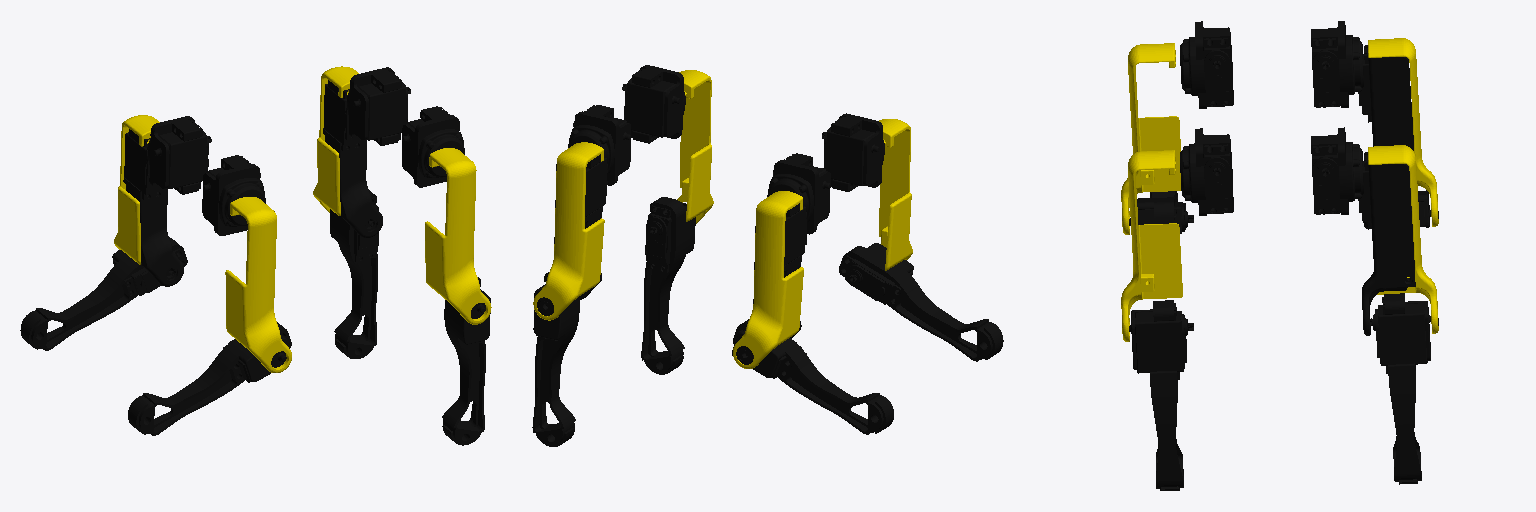
The robot description file, URDF, robot "rex":
<?xml version="1.0" encoding="utf-8"?>
<robot name="rex" xmlns:xacro="http://www.ros.org/wiki/xacro">
  <material name="yellow">
    <color rgba="0.92 0.83 0.0 1"/>
  </material>
  <material name="black">
    <color rgba="0.1 0.1 0.1 1"/>
  </material>
  <material name="grey">
    <color rgba="0.6 0.6 0.6 1"/>
  </material>
  <!-- Params -->
  <!-- Macros -->
  <!-- Robot Body -->
  <link name="base_link">
    <visual>
      <geometry>
        <mesh filename="stl/mainbody.stl" scale="0.001 0.001 0.001"/>
      </geometry>
      <material name="black"/>
      <origin rpy="0 0 3.14159" xyz="0.045 0.060 -0.015"/>
    </visual>
    <collision>
      <geometry>
        <box size="0.14 0.11 0.07"/>
      </geometry>
      <origin rpy="0 0 0" xyz="0 0 0"/>
    </collision>
    <inertial>
      <mass value="1.20"/>
      <inertia ixx="100" ixy="0" ixz="0" iyy="100" iyz="0" izz="100"/>
    </inertial>
  </link>

<!--  @TODO add lidar sensor-->
  <!-- Lidar Backpack -->
<!--  <link name="lidar_link">-->
<!--    <visual>-->
<!--      <geometry>-->
<!--        <mesh filename="stl/rplidar_main.STL" scale="0.001 0.001 0.001"/>-->
<!--      </geometry>-->
<!--      <material name="black"/>-->
<!--      <origin rpy="1.57075 0 0" xyz="-0.06425 0.02885 0"/>-->
<!--    </visual>-->
<!--    <collision>-->
<!--      <geometry>-->
<!--        <box size="0.0985 0.0577 0.07"/>-->
<!--      </geometry>-->
<!--      <origin rpy="0 0 0" xyz="0 0 0"/>-->
<!--    </collision>-->
<!--    <inertial>-->
<!--      <mass value="0.50"/>-->
<!--      <inertia ixx="100" ixy="0" ixz="0" iyy="100" iyz="0" izz="100"/>-->
<!--    </inertial>-->
<!--  </link>-->
<!--  <joint name="base_lidar" type="fixed">-->
<!--    <parent link="base_link"/>-->
<!--    <child link="lidar_link"/>-->
<!--    <origin xyz="0 0 0.035"/>-->
<!--  </joint>-->

  <!-- create head & tail -->
  <link name="chassis_front_link">
    <visual>
      <geometry>
        <mesh filename="stl/frontpart.stl" scale="0.001 0.001 0.001"/>
      </geometry>
      <origin rpy="0 0 3.14159" xyz="0.040 0.060 -0.0140"/>
      <material name="yellow"/>
    </visual>
    <collision>
      <geometry>
        <box size="0.058 0.11 0.07"/>
      </geometry>
      <origin rpy="0 0 0" xyz="-0.145 0 0"/>
    </collision>
    <inertial>
      <mass value="0.05"/>
      <inertia ixx="100" ixy="0" ixz="0" iyy="100" iyz="0" izz="100"/>
    </inertial>
  </link>
  <joint name="chassis_base_front" type="fixed">
    <parent link="base_link"/>
    <child link="chassis_front_link"/>
  </joint>
  <link name="chassis_rear_link">
    <visual>
      <geometry>
        <mesh filename="stl/backpart.stl" scale="0.001 0.001 0.001"/>
      </geometry>
      <origin rpy="0 0 3.14159" xyz="0.040 0.060 -0.0140"/>
      <material name="yellow"/>
    </visual>
    <collision>
      <geometry>
        <box size="0.04 0.11 0.07"/>
      </geometry>
      <origin rpy="0 0 0" xyz="0.135 0 0"/>
    </collision>
    <inertial>
      <mass value="0.05"/>
      <inertia ixx="100" ixy="0" ixz="0" iyy="100" iyz="0" izz="100"/>
    </inertial>
  </link>
  <joint name="chassis_base_rear" type="fixed">
    <parent link="base_link"/>
    <child link="chassis_rear_link"/>
  </joint>

  <!-- create Legs -->
  <link name="front_left_shoulder_link">
    <visual>
      <geometry>
        <mesh filename="stl/lshoulder.stl" scale="0.001 0.001 0.001"/>
      </geometry>
      <origin rpy="0 0 0" xyz="-0.135 -0.02 -0.01"/>
      <material name="black"/>
    </visual>
    <collision>
      <geometry>
        <box size="0.044 0.038 0.07"/>
      </geometry>
      <origin rpy="0 0 0" xyz="0 0 0"/>
    </collision>
    <inertial>
      <mass value="0.10"/>
      <inertia ixx="100" ixy="0" ixz="0" iyy="100" iyz="0" izz="100"/>
    </inertial>
  </link>
  <link name="front_left_leg_link_cover">
    <visual>
      <geometry>
        <mesh filename="stl/larm_cover.stl" scale="0.001 0.001 0.001"/>
      </geometry>
      <origin rpy="0 0 0" xyz="-0.125 0.04 -0.02"/>
      <material name="yellow"/>
    </visual>
    <inertial>
      <mass value="0.5"/>
      <inertia ixx="100" ixy="0" ixz="0" iyy="100" iyz="0" izz="100"/>
    </inertial>
  </link>
  <link name="front_left_leg_link">
    <visual>
      <geometry>
        <mesh filename="stl/larm.stl" scale="0.001 0.001 0.001"/>
      </geometry>
      <origin rpy="0 0 0" xyz="-0.125 0.04 -0.02"/>
      <material name="black"/>
    </visual>
    <collision>
      <origin rpy="0.0 0.0 0.0" xyz="0.0 0.0 -0.050"/>
      <geometry>
        <box size="0.028 0.036 0.12"/>
      </geometry>
    </collision>
    <inertial>
      <mass value="0.1"/>
      <inertia ixx="100" ixy="0" ixz="0" iyy="100" iyz="0" izz="100"/>
    </inertial>
  </link>
  <link name="front_left_foot_link">
    <visual>
      <geometry>
        <mesh filename="stl/lfoot.stl" scale="0.001 0.001 0.001"/>
      </geometry>
      <origin rpy="0 0 0" xyz="-0.120 0.04 0.1"/>
      <material name="black"/>
    </visual>
    <collision>
      <geometry>
        <box size="0.026 0.020 0.115"/>
      </geometry>
      <origin rpy="0.0 0.0 0.0" xyz="0.0 0.0 -0.050"/>
    </collision>
    <inertial>
      <mass value="0.1"/>
      <inertia ixx="100" ixy="0" ixz="0" iyy="100" iyz="0" izz="100"/>
    </inertial>
  </link>
  <link name="front_left_toe_link">
    <visual>
      <geometry>
        <mesh filename="stl/foot.stl" scale="0.001 0.001 0.001"/>
      </geometry>
      <origin rpy="0 -0.40010 0" xyz="0 -0.01 0"/>
      <material name="grey"/>
    </visual>
    <collision>
      <geometry>
        <mesh filename="stl/foot.stl" scale="0.001 0.001 0.001"/>
      </geometry>
      <origin rpy="0 -0.40010 0" xyz="0 -0.01 0"/>
      <contact_coefficients mu="100.0"/>
    </collision>
    <inertial>
      <mass value="0.005"/>
      <inertia ixx="100" ixy="0" ixz="0" iyy="100" iyz="0" izz="100"/>
    </inertial>
  </link>
  <joint name="motor_front_left_shoulder" type="revolute">
    <parent link="base_link"/>
    <child link="front_left_shoulder_link"/>
    <axis xyz="1 0 0"/>
    <origin rpy="0 0 3.14159" xyz="0.093 0.036 0"/>
    <limit effort="100.0" lower="-0.05" upper="-0.051" velocity="5"/>
    <dynamics damping="0.0" friction="0.5"/>
  </joint>
  <joint name="motor_front_left_leg" type="revolute">
    <parent link="front_left_shoulder_link"/>
    <child link="front_left_leg_link"/>
    <axis xyz="0 1 0"/>
    <origin rpy="0 0 0" xyz="0 -0.052 0"/>
    <limit effort="100.0" lower="-9.17" upper="9.17" velocity="5"/>
    <dynamics damping="0.0" friction="0.0"/>
  </joint>
  <joint name="front_left_leg_cover_joint" type="fixed">
    <parent link="front_left_leg_link"/>
    <child link="front_left_leg_link_cover"/>
    <origin xyz="0 0 0"/>
  </joint>
  <joint name="foot_motor_front_left" type="revolute">
    <parent link="front_left_leg_link"/>
    <child link="front_left_foot_link"/>
    <axis xyz="0 1 0"/>
    <origin rpy="0 0 0" xyz="-0.01 0 -0.12"/>
    <limit effort="100.0" lower="-9.17" upper="9.17" velocity="5"/>
    <dynamics damping="0.0" friction="0.5"/>
  </joint>
  <joint name="front_left_toe" type="fixed">
    <parent link="front_left_foot_link"/>
    <child link="front_left_toe_link"/>
    <origin xyz="0 0 -0.115"/>
  </joint>

  <link name="front_right_shoulder_link">
    <visual>
      <geometry>
        <mesh filename="stl/rshoulder.stl" scale="0.001 0.001 0.001"/>
      </geometry>
      <origin rpy="0 0 0" xyz="-0.135 -0.09 -0.01"/>
      <material name="black"/>
    </visual>
    <collision>
      <geometry>
        <box size="0.044 0.038 0.07"/>
      </geometry>
      <origin rpy="0 0 0" xyz="0 0 0"/>
    </collision>
    <inertial>
      <mass value="0.10"/>
      <inertia ixx="100" ixy="0" ixz="0" iyy="100" iyz="0" izz="100"/>
    </inertial>
  </link>
  <link name="front_right_leg_link_cover">
    <visual>
      <geometry>
        <mesh filename="stl/rarm_cover.stl" scale="0.001 0.001 0.001"/>
      </geometry>
      <origin rpy="0 0 0" xyz="-0.125 -0.15 -0.02"/>
      <material name="yellow"/>
    </visual>
    <inertial>
      <mass value="0.5"/>
      <inertia ixx="100" ixy="0" ixz="0" iyy="100" iyz="0" izz="100"/>
    </inertial>
  </link>
  <link name="front_right_leg_link">
    <visual>
      <geometry>
        <mesh filename="stl/rarm.stl" scale="0.001 0.001 0.001"/>
      </geometry>
      <origin rpy="0 0 0" xyz="-0.125 -0.15 -0.02"/>
      <material name="black"/>
    </visual>
    <collision>
      <origin rpy="0.0 0.0 0.0" xyz="0.0 0.0 -0.050"/>
      <geometry>
        <box size="0.028 0.036 0.12"/>
      </geometry>
    </collision>
    <inertial>
      <mass value="0.1"/>
      <inertia ixx="100" ixy="0" ixz="0" iyy="100" iyz="0" izz="100"/>
    </inertial>
  </link>
  <link name="front_right_foot_link">
    <visual>
      <geometry>
        <mesh filename="stl/rfoot.stl" scale="0.001 0.001 0.001"/>
      </geometry>
      <origin rpy="0 0 0" xyz="-0.120 -0.15 0.1"/>
      <material name="black"/>
    </visual>
    <collision>
      <geometry>
        <box size="0.026 0.020 0.115"/>
      </geometry>
      <origin rpy="0.0 0.0 0.0" xyz="0.0 0.0 -0.050"/>
    </collision>
    <inertial>
      <mass value="0.1"/>
      <inertia ixx="100" ixy="0" ixz="0" iyy="100" iyz="0" izz="100"/>
    </inertial>
  </link>
  <link name="front_right_toe_link">
    <visual>
      <geometry>
        <mesh filename="stl/foot.stl" scale="0.001 0.001 0.001"/>
      </geometry>
      <origin rpy="0 -0.40010 0" xyz="0 -0.01 0"/>
      <material name="grey"/>
    </visual>
    <collision>
      <geometry>
        <mesh filename="stl/foot.stl" scale="0.001 0.001 0.001"/>
      </geometry>
      <origin rpy="0 -0.40010 0" xyz="0 -0.01 0"/>
      <contact_coefficients mu="100.0"/>
    </collision>
    <inertial>
      <mass value="0.005"/>
      <inertia ixx="100" ixy="0" ixz="0" iyy="100" iyz="0" izz="100"/>
    </inertial>
  </link>
  <joint name="motor_front_right_shoulder" type="revolute">
    <parent link="base_link"/>
    <child link="front_right_shoulder_link"/>
    <axis xyz="1 0 0"/>
    <origin rpy="0 0 3.14159" xyz="0.093 -0.036 0"/>
    <limit effort="100.0" lower="-0.05" upper="-0.051" velocity="5"/>
    <dynamics damping="0.0" friction="0.5"/>
  </joint>
  <joint name="motor_front_right_leg" type="revolute">
    <parent link="front_right_shoulder_link"/>
    <child link="front_right_leg_link"/>
    <axis xyz="0 1 0"/>
    <origin rpy="0 0 0" xyz="0 0.052 0"/>
    <limit effort="100.0" lower="-9.17" upper="9.17" velocity="5"/>
    <dynamics damping="0.0" friction="0.0"/>
  </joint>
  <joint name="front_right_leg_cover_joint" type="fixed">
    <parent link="front_right_leg_link"/>
    <child link="front_right_leg_link_cover"/>
    <origin xyz="0 0 0"/>
  </joint>
  <joint name="foot_motor_front_right" type="revolute">
    <parent link="front_right_leg_link"/>
    <child link="front_right_foot_link"/>
    <axis xyz="0 1 0"/>
    <origin rpy="0 0 0" xyz="-0.01 0 -0.12"/>
    <limit effort="100.0" lower="-9.17" upper="9.17" velocity="5"/>
    <dynamics damping="0.0" friction="0.5"/>
  </joint>
  <joint name="front_right_toe" type="fixed">
    <parent link="front_right_foot_link"/>
    <child link="front_right_toe_link"/>
    <origin xyz="0 0 -0.115"/>
  </joint>

  <link name="rear_left_shoulder_link">
    <visual>
      <geometry>
        <mesh filename="stl/lshoulder.stl" scale="0.001 0.001 0.001"/>
      </geometry>
      <origin rpy="0 0 0" xyz="-0.135 -0.02 -0.01"/>
      <material name="black"/>
    </visual>
    <collision>
      <geometry>
        <box size="0.044 0.038 0.07"/>
      </geometry>
      <origin rpy="0 0 0" xyz="0 0 0"/>
    </collision>
    <inertial>
      <mass value="0.10"/>
      <inertia ixx="100" ixy="0" ixz="0" iyy="100" iyz="0" izz="100"/>
    </inertial>
  </link>
  <link name="rear_left_leg_link_cover">
    <visual>
      <geometry>
        <mesh filename="stl/larm_cover.stl" scale="0.001 0.001 0.001"/>
      </geometry>
      <origin rpy="0 0 0" xyz="-0.125 0.04 -0.02"/>
      <material name="yellow"/>
    </visual>
    <inertial>
      <mass value="0.5"/>
      <inertia ixx="100" ixy="0" ixz="0" iyy="100" iyz="0" izz="100"/>
    </inertial>
  </link>
  <link name="rear_left_leg_link">
    <visual>
      <geometry>
        <mesh filename="stl/larm.stl" scale="0.001 0.001 0.001"/>
      </geometry>
      <origin rpy="0 0 0" xyz="-0.125 0.04 -0.02"/>
      <material name="black"/>
    </visual>
    <collision>
      <origin rpy="0.0 0.0 0.0" xyz="0.0 0.0 -0.050"/>
      <geometry>
        <box size="0.028 0.036 0.12"/>
      </geometry>
    </collision>
    <inertial>
      <mass value="0.10"/>
      <inertia ixx="100" ixy="0" ixz="0" iyy="100" iyz="0" izz="100"/>
    </inertial>
  </link>
  <link name="rear_left_foot_link">
    <visual>
      <geometry>
        <mesh filename="stl/lfoot.stl" scale="0.001 0.001 0.001"/>
      </geometry>
      <origin rpy="0 0 0" xyz="-0.120 0.04 0.1"/>
      <material name="black"/>
    </visual>
    <collision>
      <geometry>
        <box size="0.026 0.020 0.115"/>
      </geometry>
      <origin rpy="0.0 0.0 0.0" xyz="0.0 0.0 -0.050"/>
    </collision>
    <inertial>
      <mass value="0.1"/>
      <inertia ixx="100" ixy="0" ixz="0" iyy="100" iyz="0" izz="100"/>
    </inertial>
  </link>
  <link name="rear_left_toe_link">
    <visual>
      <geometry>
        <mesh filename="stl/foot.stl" scale="0.001 0.001 0.001"/>
      </geometry>
      <origin rpy="0 -0.40010 0" xyz="0 -0.01 0"/>
      <material name="grey"/>
    </visual>
    <collision>
      <geometry>
        <mesh filename="stl/foot.stl" scale="0.001 0.001 0.001"/>
      </geometry>
      <origin rpy="0 -0.40010 0" xyz="0 -0.01 0"/>
      <contact_coefficients mu="100.0"/>
    </collision>
    <inertial>
      <mass value="0.005"/>
      <inertia ixx="100" ixy="0" ixz="0" iyy="100" iyz="0" izz="100"/>
    </inertial>
  </link>
  <joint name="motor_rear_left_shoulder" type="revolute">
    <parent link="base_link"/>
    <child link="rear_left_shoulder_link"/>
    <axis xyz="1 0 0"/>
    <origin rpy="0 0 3.14159" xyz="-0.093 0.036 0"/>
    <limit effort="100.0" lower="-0.05" upper="-0.051" velocity="5"/>
    <dynamics damping="0.0" friction="0.5"/>
  </joint>
  <joint name="motor_rear_left_leg" type="revolute">
    <parent link="rear_left_shoulder_link"/>
    <child link="rear_left_leg_link"/>
    <axis xyz="0 1 0"/>
    <origin rpy="0 0 0" xyz="0 -0.052 0"/>
    <limit effort="100.0" lower="-9.17" upper="9.17" velocity="5"/>
    <dynamics damping="0.0" friction="0.0"/>
  </joint>
  <joint name="rear_left_leg_cover_joint" type="fixed">
    <parent link="rear_left_leg_link"/>
    <child link="rear_left_leg_link_cover"/>
    <origin xyz="0 0 0"/>
  </joint>
  <joint name="foot_motor_rear_left" type="revolute">
    <parent link="rear_left_leg_link"/>
    <child link="rear_left_foot_link"/>
    <axis xyz="0 1 0"/>
    <origin rpy="0 0 0" xyz="-0.01 0 -0.12"/>
    <limit effort="100.0" lower="0.9" upper="9.17" velocity="5"/>
    <dynamics damping="0.0" friction="0.5"/>
  </joint>
  <joint name="rear_left_toe" type="fixed">
    <parent link="rear_left_foot_link"/>
    <child link="rear_left_toe_link"/>
    <origin xyz="0 0 -0.115"/>
  </joint>

  <link name="rear_right_shoulder_link">
    <visual>
      <geometry>
        <mesh filename="stl/rshoulder.stl" scale="0.001 0.001 0.001"/>
      </geometry>
      <origin rpy="0 0 0" xyz="-0.135 -0.09 -0.01"/>
      <material name="black"/>
    </visual>
    <collision>
      <geometry>
        <box size="0.044 0.038 0.07"/>
      </geometry>
      <origin rpy="0 0 0" xyz="0 0 0"/>
    </collision>
    <inertial>
      <mass value="0.10"/>
      <inertia ixx="100" ixy="0" ixz="0" iyy="100" iyz="0" izz="100"/>
    </inertial>
  </link>
  <link name="rear_right_leg_link_cover">
    <visual>
      <geometry>
        <mesh filename="stl/rarm_cover.stl" scale="0.001 0.001 0.001"/>
      </geometry>
      <origin rpy="0 0 0" xyz="-0.125 -0.15 -0.02"/>
      <material name="yellow"/>
    </visual>
    <inertial>
      <mass value="0.5"/>
      <inertia ixx="100" ixy="0" ixz="0" iyy="100" iyz="0" izz="100"/>
    </inertial>
  </link>
  <link name="rear_right_leg_link">
    <visual>
      <geometry>
        <mesh filename="stl/rarm.stl" scale="0.001 0.001 0.001"/>
      </geometry>
      <origin rpy="0 0 0" xyz="-0.125 -0.15 -0.02"/>
      <material name="black"/>
    </visual>
    <collision>
      <origin rpy="0.0 0.0 0.0" xyz="0.0 0.0 -0.050"/>
      <geometry>
        <box size="0.028 0.036 0.12"/>
      </geometry>
    </collision>
    <inertial>
      <mass value="0.10"/>
      <inertia ixx="100" ixy="0" ixz="0" iyy="100" iyz="0" izz="100"/>
    </inertial>
  </link>
  <link name="rear_right_foot_link">
    <visual>
      <geometry>
        <mesh filename="stl/rfoot.stl" scale="0.001 0.001 0.001"/>
      </geometry>
      <origin rpy="0 0 0" xyz="-0.120 -0.15 0.1"/>
      <material name="black"/>
    </visual>
    <collision>
      <geometry>
        <box size="0.026 0.020 0.115"/>
      </geometry>
      <origin rpy="0.0 0.0 0.0" xyz="0.0 0.0 -0.050"/>
    </collision>
    <inertial>
      <mass value="0.1"/>
      <inertia ixx="100" ixy="0" ixz="0" iyy="100" iyz="0" izz="100"/>
    </inertial>
  </link>
  <link name="rear_right_toe_link">
    <visual>
      <geometry>
        <mesh filename="stl/foot.stl" scale="0.001 0.001 0.001"/>
      </geometry>
      <origin rpy="0 -0.40010 0" xyz="0 -0.01 0"/>
      <material name="grey"/>
    </visual>
    <collision>
      <geometry>
        <mesh filename="stl/foot.stl" scale="0.001 0.001 0.001"/>
      </geometry>
      <origin rpy="3.14159 -0.40010 3.14159" xyz="0 -0.01 0"/>
      <contact_coefficients mu="100.0"/>
    </collision>
    <inertial>
      <mass value="0.005"/>
      <inertia ixx="100" ixy="0" ixz="0" iyy="100" iyz="0" izz="100"/>
    </inertial>
  </link>
  <joint name="motor_rear_right_shoulder" type="revolute">
    <parent link="base_link"/>
    <child link="rear_right_shoulder_link"/>
    <axis xyz="1 0 0"/>
    <origin rpy="0 0 3.14159" xyz="-0.093 -0.036 0"/>
    <limit effort="100.0" lower="-0.05" upper="-0.051" velocity="5"/>
    <dynamics damping="0.0" friction="0.5"/>
  </joint>
  <joint name="motor_rear_right_leg" type="revolute">
    <parent link="rear_right_shoulder_link"/>
    <child link="rear_right_leg_link"/>
    <axis xyz="0 1 0"/>
    <origin rpy="0 0 0" xyz="0 0.052 0"/>
    <limit effort="100.0" lower="-9.17" upper="9.17" velocity="5"/>
    <dynamics damping="0.0" friction="0.0"/>
  </joint>
  <joint name="rear_right_leg_cover_joint" type="fixed">
    <parent link="rear_right_leg_link"/>
    <child link="rear_right_leg_link_cover"/>
    <origin xyz="0 0 0"/>
  </joint>
  <joint name="foot_motor_rear_right" type="revolute">
    <parent link="rear_right_leg_link"/>
    <child link="rear_right_foot_link"/>
    <axis xyz="0 1 0"/>
    <origin rpy="0 0 0" xyz="-0.01 0 -0.12"/>
    <limit effort="100.0" lower="0.9" upper="9.17" velocity="5"/>
    <dynamics damping="0.0" friction="0.5"/>
  </joint>
  <joint name="rear_right_toe" type="fixed">
    <parent link="rear_right_foot_link"/>
    <child link="rear_right_toe_link"/>
    <origin xyz="0 0 -0.115"/>
  </joint>
</robot>

--- What the picture shows (computed from the rendered views, not written in the file) ---
3 views of the same robot in one strip: view 1: azimuth 30°, elevation 25°; view 2: azimuth 150°, elevation 25°; view 3: azimuth 270°, elevation 25° (orthographic).
Model rex with 23 links and 22 joints (12 revolute, 10 fixed), rooted at base_link, posed all joints at 0 but 6 set to mid-range because 0 is outside their limits (motor_front_left_shoulder = -0.0505, motor_front_right_shoulder = -0.0505, motor_rear_left_shoulder = -0.0505, foot_motor_rear_left = 5.04, motor_rear_right_shoulder = -0.0505, foot_motor_rear_right = 5.04).
Visible links, largest first — view 1: front_right_leg_link_cover, rear_right_leg_link_cover, rear_right_foot_link, rear_left_foot_link, front_left_foot_link, front_right_foot_link, rear_left_leg_link, front_left_leg_link, front_left_shoulder_link, rear_left_shoulder_link, rear_right_shoulder_link, front_right_shoulder_link (+2 smaller); view 2: front_left_leg_link_cover, rear_left_leg_link_cover, rear_right_foot_link, front_right_foot_link, rear_left_foot_link, front_left_foot_link, front_right_leg_link_cover, rear_right_leg_link_cover, front_right_shoulder_link, rear_right_shoulder_link, front_left_shoulder_link, rear_left_shoulder_link (+2 smaller); view 3: front_right_foot_link, front_left_foot_link, front_left_leg_link, front_right_leg_link_cover, rear_right_leg_link_cover, rear_left_leg_link, front_right_shoulder_link, rear_right_shoulder_link, rear_left_shoulder_link, front_left_shoulder_link, front_left_leg_link_cover, rear_left_leg_link_cover (+1 smaller).
Boxes of the visible links, box(x1,y1,x2,y2) form: front_right_leg_link_cover: box(425, 148, 491, 324); rear_right_leg_link_cover: box(225, 197, 291, 372); rear_right_foot_link: box(128, 322, 291, 435); rear_left_foot_link: box(20, 237, 187, 350); front_left_foot_link: box(330, 190, 378, 358); front_right_foot_link: box(442, 277, 490, 445); rear_left_leg_link: box(123, 129, 183, 286); front_left_leg_link: box(323, 80, 382, 237); front_left_shoulder_link: box(347, 67, 410, 145); rear_left_shoulder_link: box(147, 116, 211, 194); rear_right_shoulder_link: box(202, 155, 265, 235); front_right_shoulder_link: box(402, 106, 464, 187); front_left_leg_link_cover: box(533, 142, 604, 320); rear_left_leg_link_cover: box(733, 191, 803, 368); rear_right_foot_link: box(839, 243, 1003, 361); front_right_foot_link: box(641, 197, 695, 374); rear_left_foot_link: box(732, 319, 893, 434); front_left_foot_link: box(532, 272, 579, 446); front_right_leg_link_cover: box(677, 70, 713, 223); rear_right_leg_link_cover: box(879, 119, 912, 270); front_right_shoulder_link: box(622, 65, 685, 143); rear_right_shoulder_link: box(822, 113, 884, 191); front_left_shoulder_link: box(568, 105, 631, 185); rear_left_shoulder_link: box(767, 153, 830, 234); front_right_foot_link: box(1129, 300, 1193, 490); front_left_foot_link: box(1370, 293, 1430, 484); front_left_leg_link: box(1358, 152, 1438, 335); front_right_leg_link_cover: box(1121, 150, 1182, 341); rear_right_leg_link_cover: box(1121, 43, 1180, 234); rear_left_leg_link: box(1358, 45, 1438, 228); front_right_shoulder_link: box(1180, 128, 1233, 215); rear_right_shoulder_link: box(1180, 21, 1233, 108); rear_left_shoulder_link: box(1311, 21, 1363, 107); front_left_shoulder_link: box(1311, 127, 1363, 214); front_left_leg_link_cover: box(1368, 145, 1438, 333); rear_left_leg_link_cover: box(1368, 38, 1438, 226).
Size in the robot's own frame: 0.3275 by 0.2334 by 0.2816 metres.
14 mesh visuals loaded from 12 distinct referenced files (7 binary STL); not drawn: 9 (reference not matched to a file when rendering).